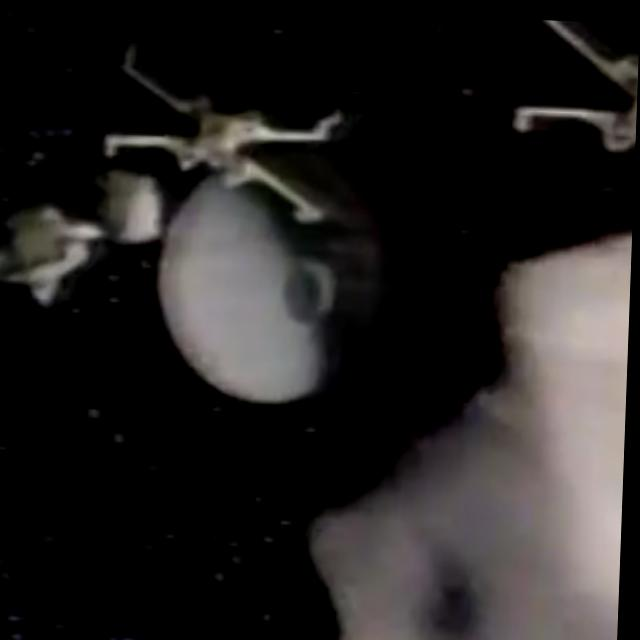deathStar: (158, 133, 391, 403)
